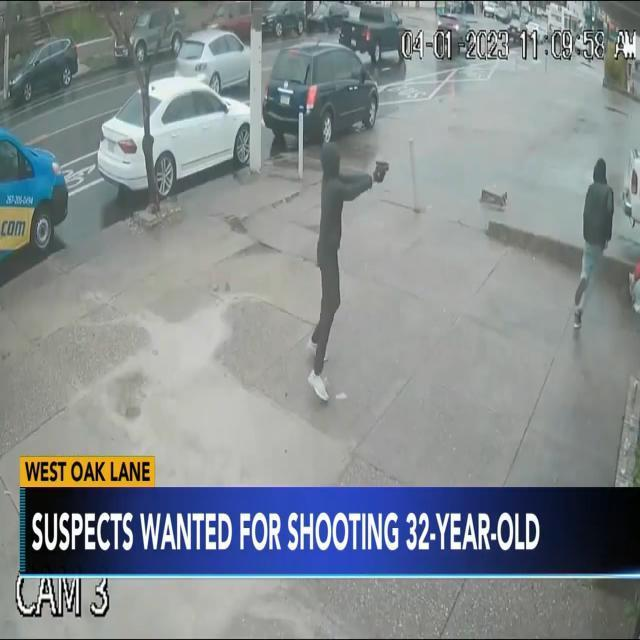Handgun: (373, 152, 392, 190)
